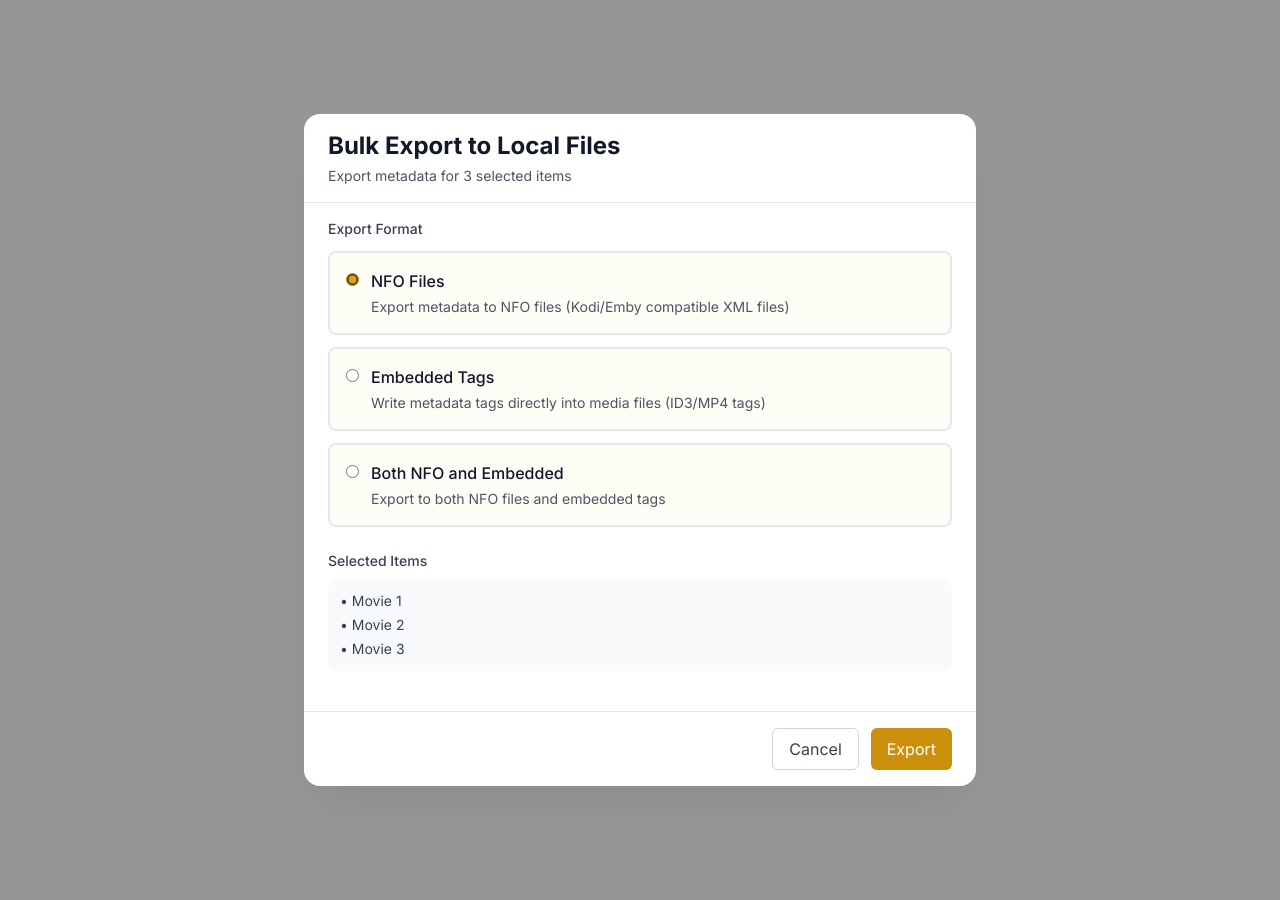
Test: BulkExportModal › should display success results after successful export
Click the button "Export". click: click(911, 749)
box: [871,728,952,770]
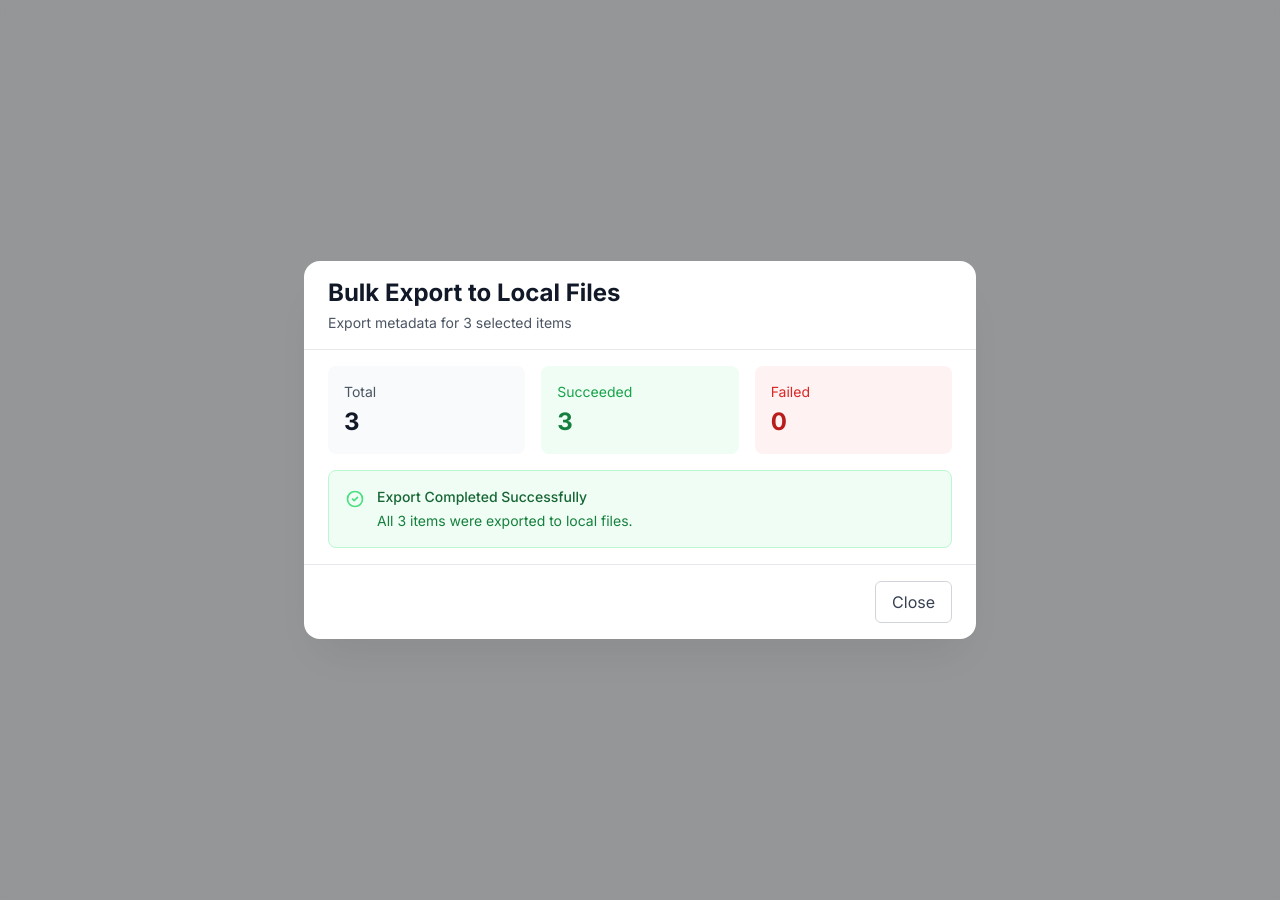
Result: the text "Total" is shown at [344,383,376,400]
Result: the text "Export Completed Successfully" is shown at [377,488,587,505]
Result: the text "All 3 items were exported to local files." is shown at [377,511,633,531]
